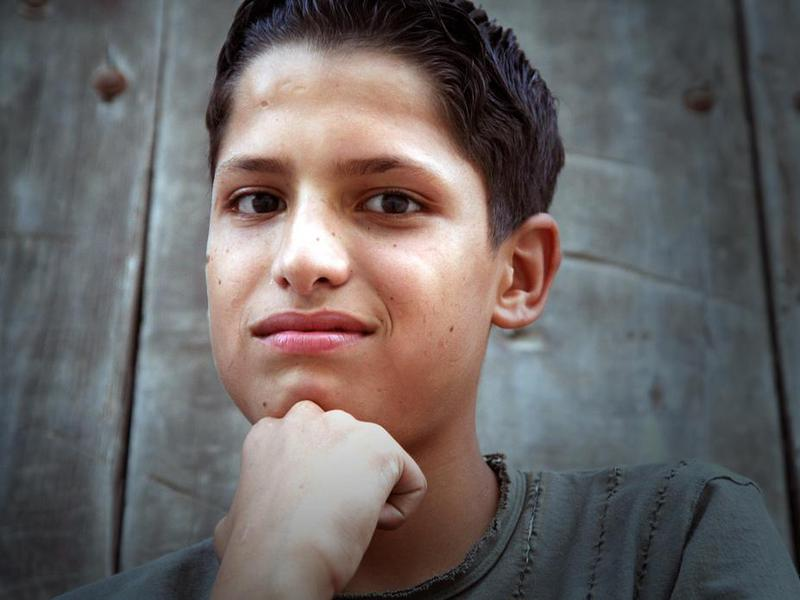person: (80, 1, 797, 600)
